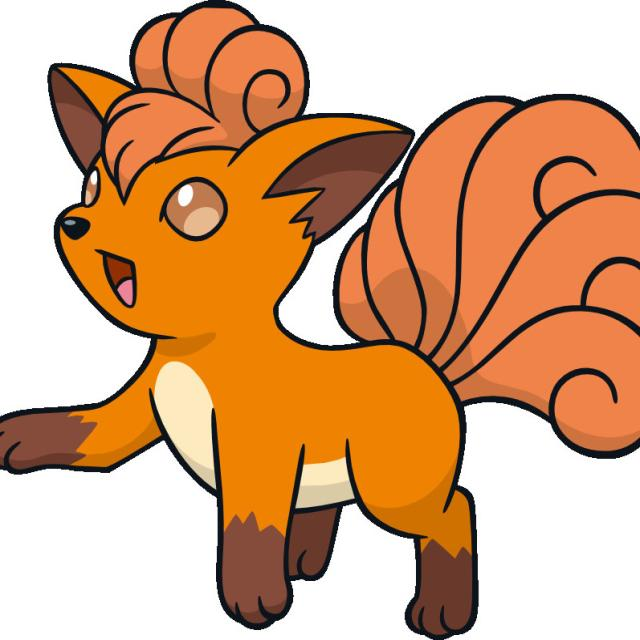Vulpix: (30, 43, 507, 595)
